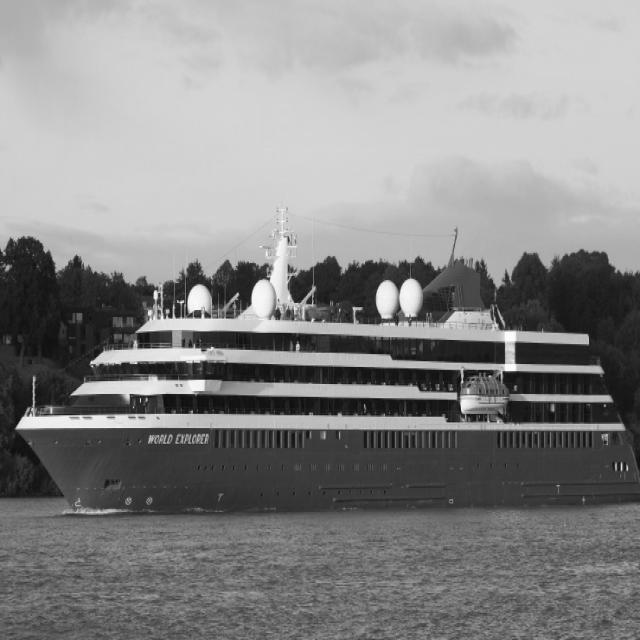cruises: (9, 202, 640, 517)
